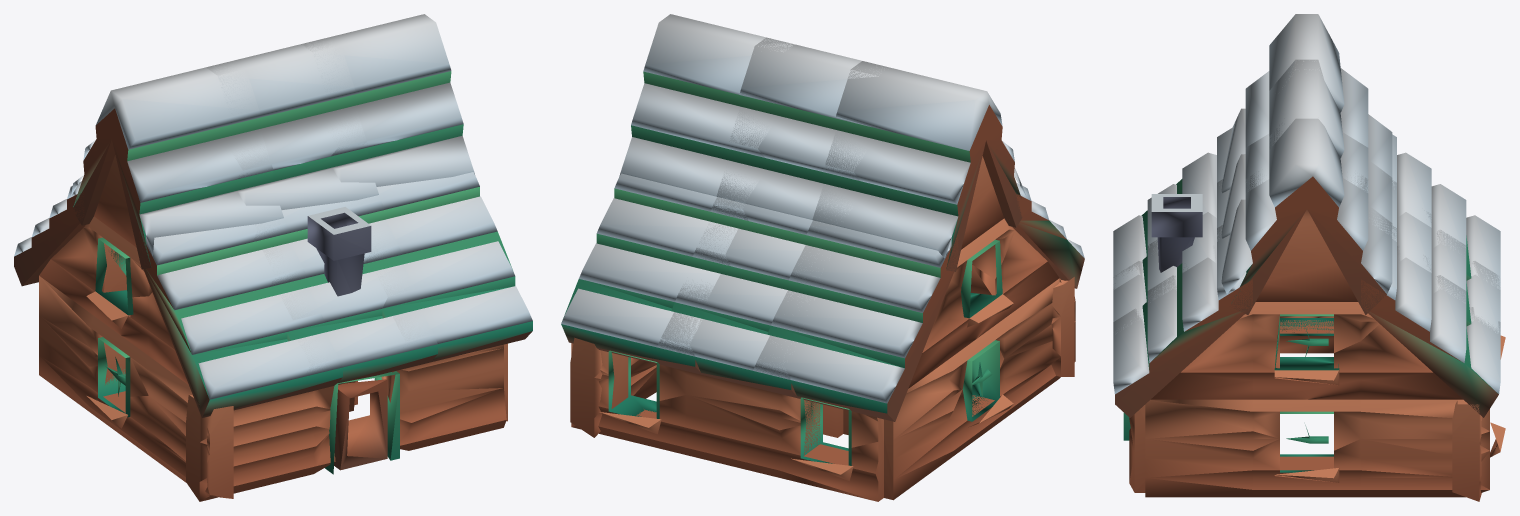
The model's file is sw_cabin_b.glb.
3 views of the same model, side by side, from view 1: azimuth 30°, elevation 25°; view 2: azimuth 150°, elevation 25°; view 3: azimuth 270°, elevation 25° (orthographic). The views are drawn at different scales.
Visible parts, largest first — view 1: sw_cabin_b; view 2: sw_cabin_b; view 3: sw_cabin_b.
Boxes of the visible parts, left/top/right/bottom form: sw_cabin_b: left=14, top=14, right=532, bottom=501; sw_cabin_b: left=561, top=14, right=1084, bottom=501; sw_cabin_b: left=1113, top=14, right=1505, bottom=501.
Size of the model in its own units: 8.12 by 7.56 by 8.02.
